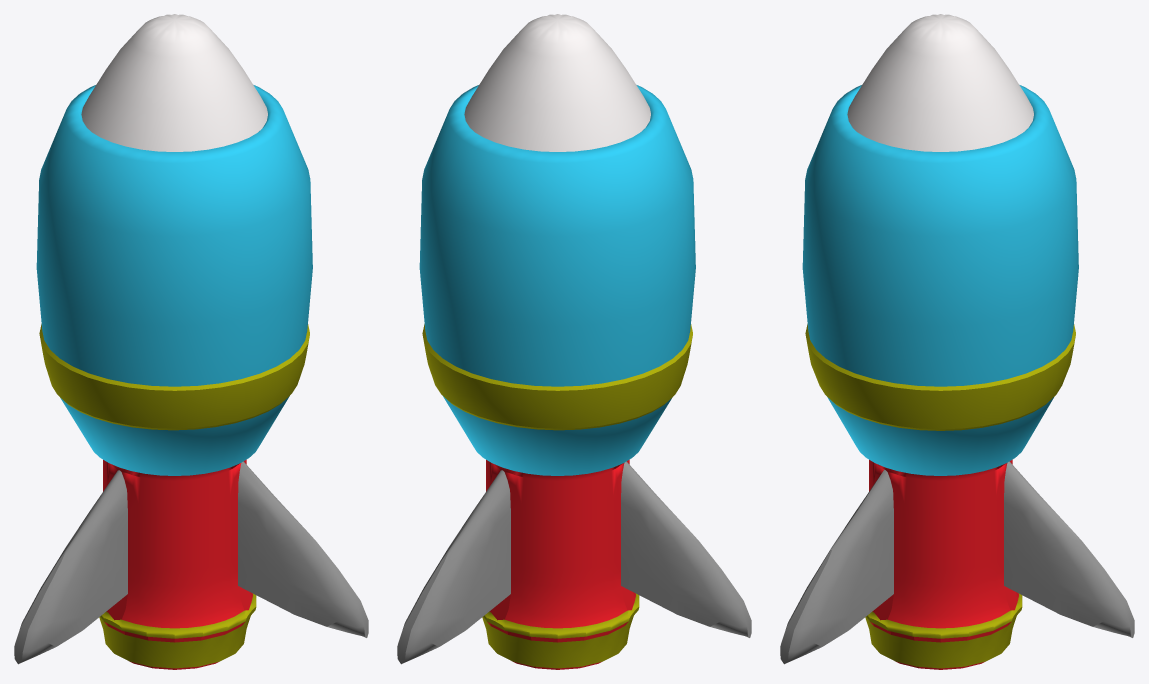
Rendered from missileTypeB.FBX.
3 views of the same model, side by side, from view 1: azimuth 30°, elevation 25°; view 2: azimuth 150°, elevation 25°; view 3: azimuth 270°, elevation 25° (orthographic).
Parts seen in each view (by area): view 1: missileType1; view 2: missileType1; view 3: missileType1.
Part boxes in pixels (x1,y1,x2,y2): missileType1: [14, 14, 368, 669]; missileType1: [397, 14, 751, 669]; missileType1: [780, 14, 1134, 669].
Size of the model in its own units: 635 by 1282 by 661.
